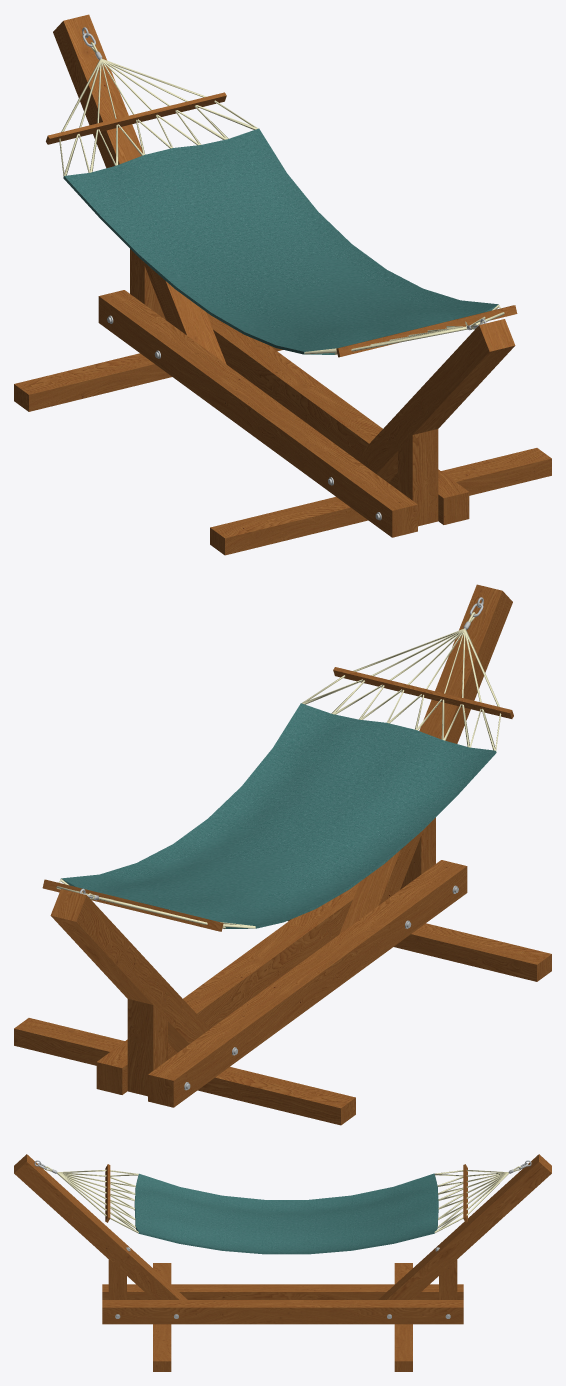
Rendered from hammock_low_poly.glb.
3 views of the same model, one above another, from view 1: azimuth 30°, elevation 25°; view 2: azimuth 150°, elevation 25°; view 3: azimuth 270°, elevation 25° (orthographic). The views are drawn at different scales.
Parts seen in each view (by area): view 1: Material-material; view 2: Material-material; view 3: Material-material.
Boxes of the visible parts, box(x1,y1,x2,y2) form: Material-material: box(14, 14, 551, 555); Material-material: box(14, 584, 551, 1125); Material-material: box(14, 1154, 551, 1371).
Size of the model in its own units: 1.36 by 1.07 by 3.15.
1 material, 1 textured.
